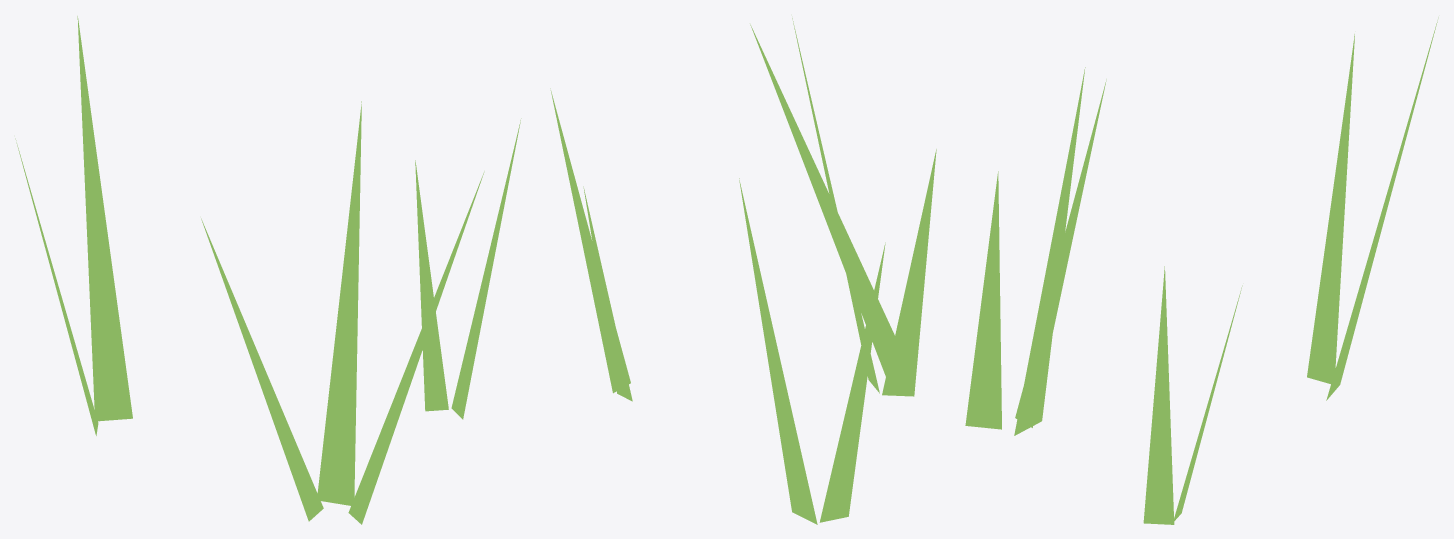
The model's file is Grass_d_TwoS_06.fbx.
3 renders of one model, left to right at view 1: azimuth 30°, elevation 25°; view 2: azimuth 150°, elevation 25°; view 3: azimuth 270°, elevation 25°, orthographic. The views are drawn at different scales.
Parts seen in each view (by area): view 1: Grass_d_TwoS_06; view 2: Grass_d_TwoS_06; view 3: Grass_d_TwoS_06.
Boxes of the visible parts, x1,y1,x2,y2 form: Grass_d_TwoS_06: (15,16,521,524); Grass_d_TwoS_06: (550,18,936,524); Grass_d_TwoS_06: (965,17,1438,524).
Size of the model in its own units: 0.5047 by 0.4348 by 0.4711.
